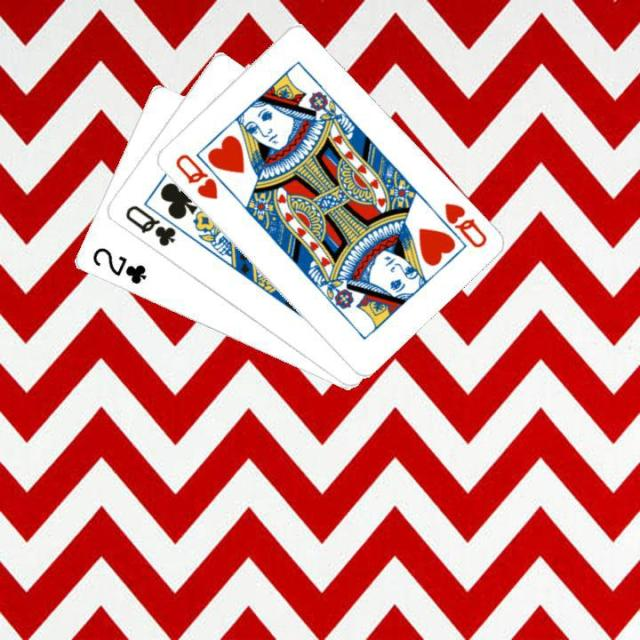2C: (88, 244, 148, 286)
QC: (120, 201, 178, 249)
QH: (425, 198, 489, 251), (170, 149, 220, 202)
